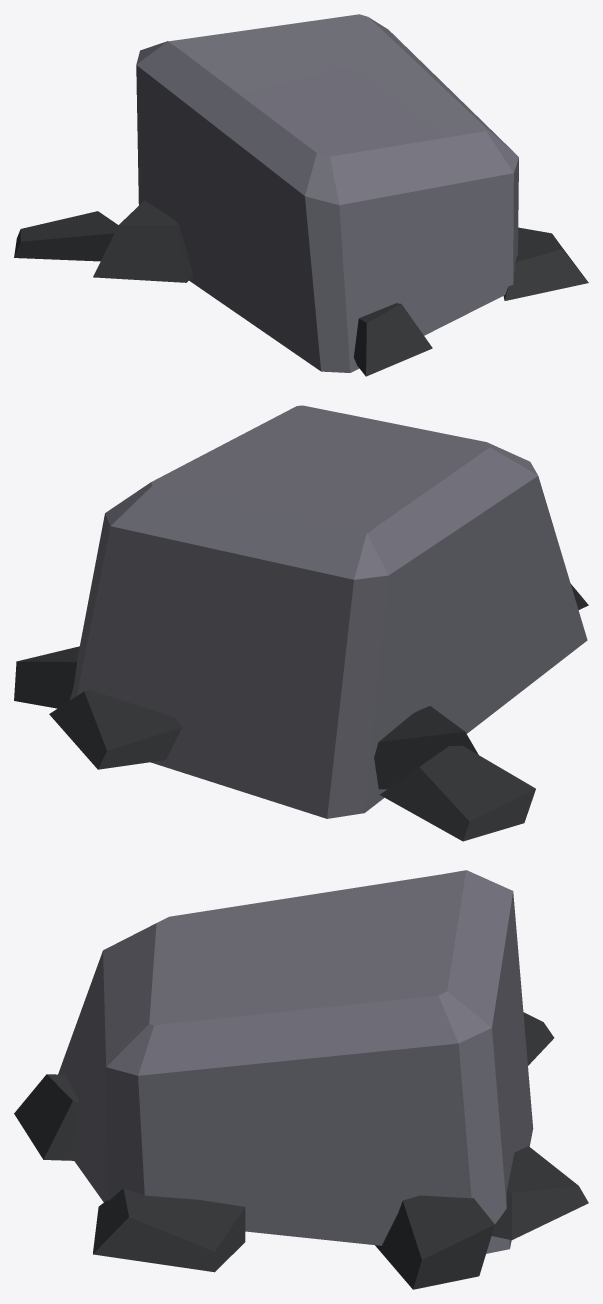
File: RockPatch#3.fbx
3 views of the same model, one above another, from view 1: azimuth 30°, elevation 25°; view 2: azimuth 150°, elevation 25°; view 3: azimuth 270°, elevation 25° (orthographic). The views are drawn at different scales.
Parts seen in each view (by area): view 1: RockPatch#3; view 2: RockPatch#3; view 3: RockPatch#3.
Boxes of the visible parts, x1,y1,x2,y2 form: RockPatch#3: [14, 14, 588, 376]; RockPatch#3: [14, 405, 588, 841]; RockPatch#3: [14, 870, 588, 1289].
Bounding box in the file's own units: 533 × 251 × 512.
